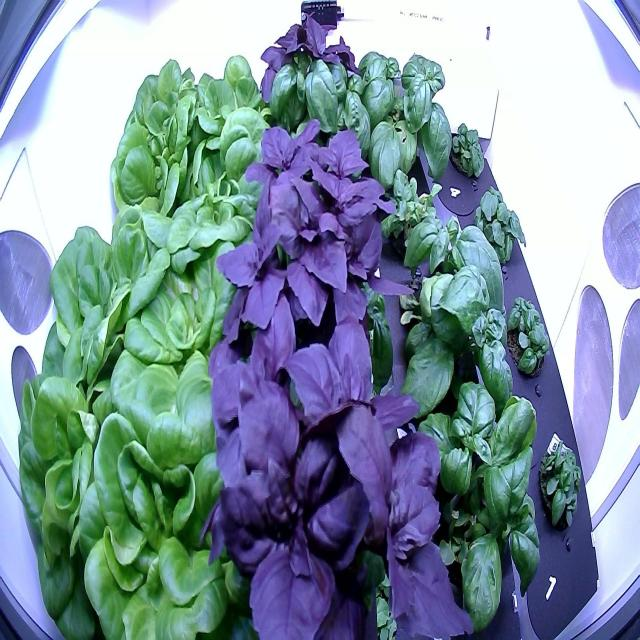Ready: (71, 342, 245, 639), (13, 357, 136, 640), (38, 203, 180, 418), (109, 235, 259, 374), (103, 42, 203, 215), (174, 44, 282, 202), (135, 163, 278, 277)
